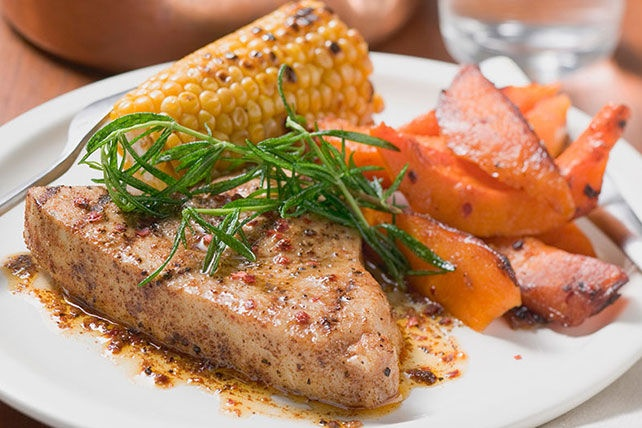background: (22, 0, 633, 275)
